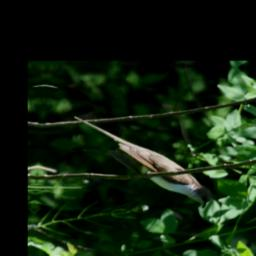Cuckoo: (64, 116, 220, 209)
